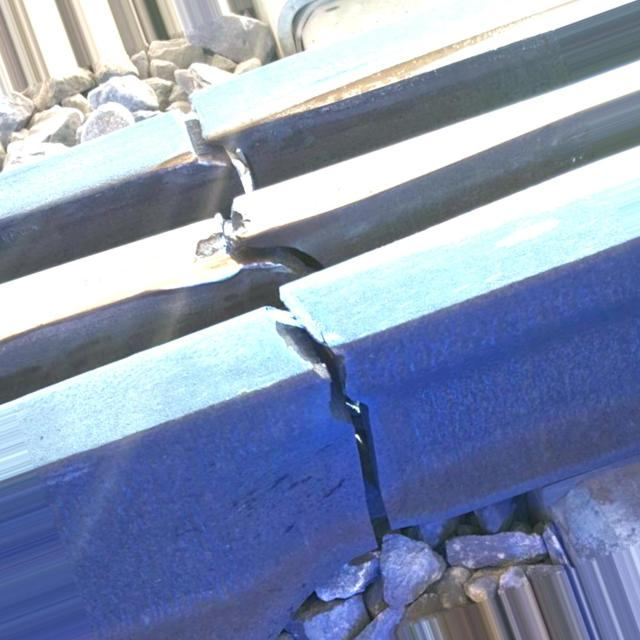crack: (121, 74, 468, 602)
